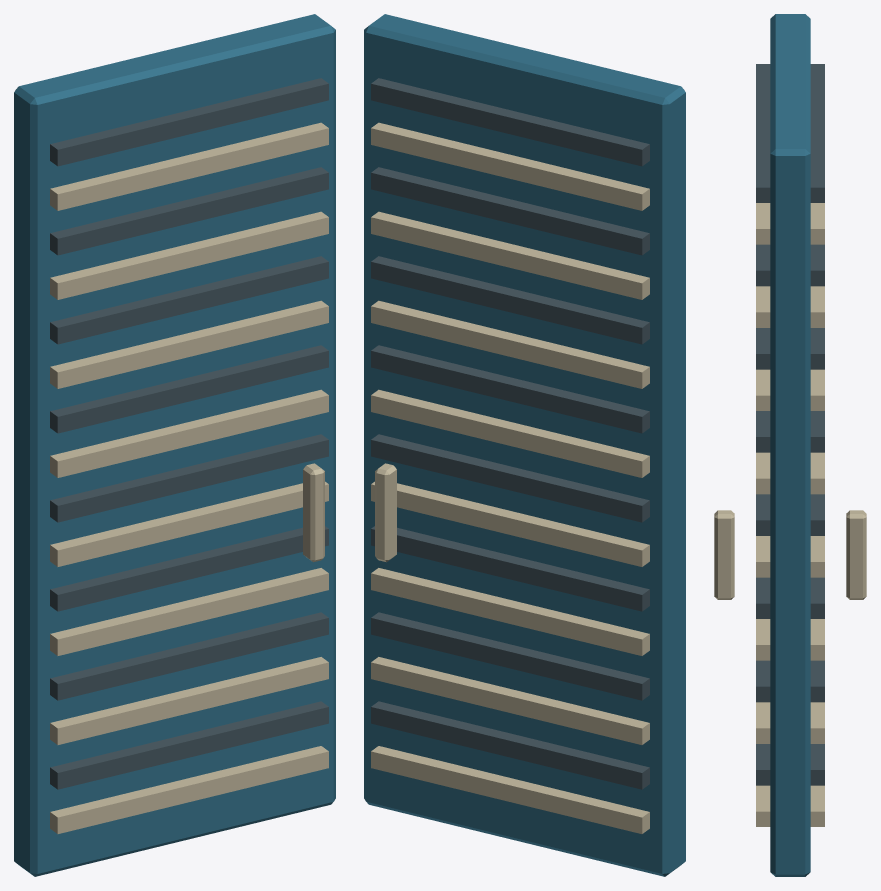
The model's file is door_warehouse_shutter.glb.
The picture shows the model from 3 angles, left to right: view 1: azimuth 30°, elevation 25°; view 2: azimuth 150°, elevation 25°; view 3: azimuth 270°, elevation 25°; orthographic projection. The views are drawn at different scales.
Parts seen in each view (by area): view 1: door_warehouse_shutter; view 2: door_warehouse_shutter; view 3: door_warehouse_shutter.
Boxes of the visible parts, x1=… form: door_warehouse_shutter: x1=14, y1=14, x2=335, y2=876; door_warehouse_shutter: x1=364, y1=14, x2=685, y2=876; door_warehouse_shutter: x1=714, y1=14, x2=866, y2=876.
Size of the model in its own units: 1.15 by 2.8 by 0.53.
